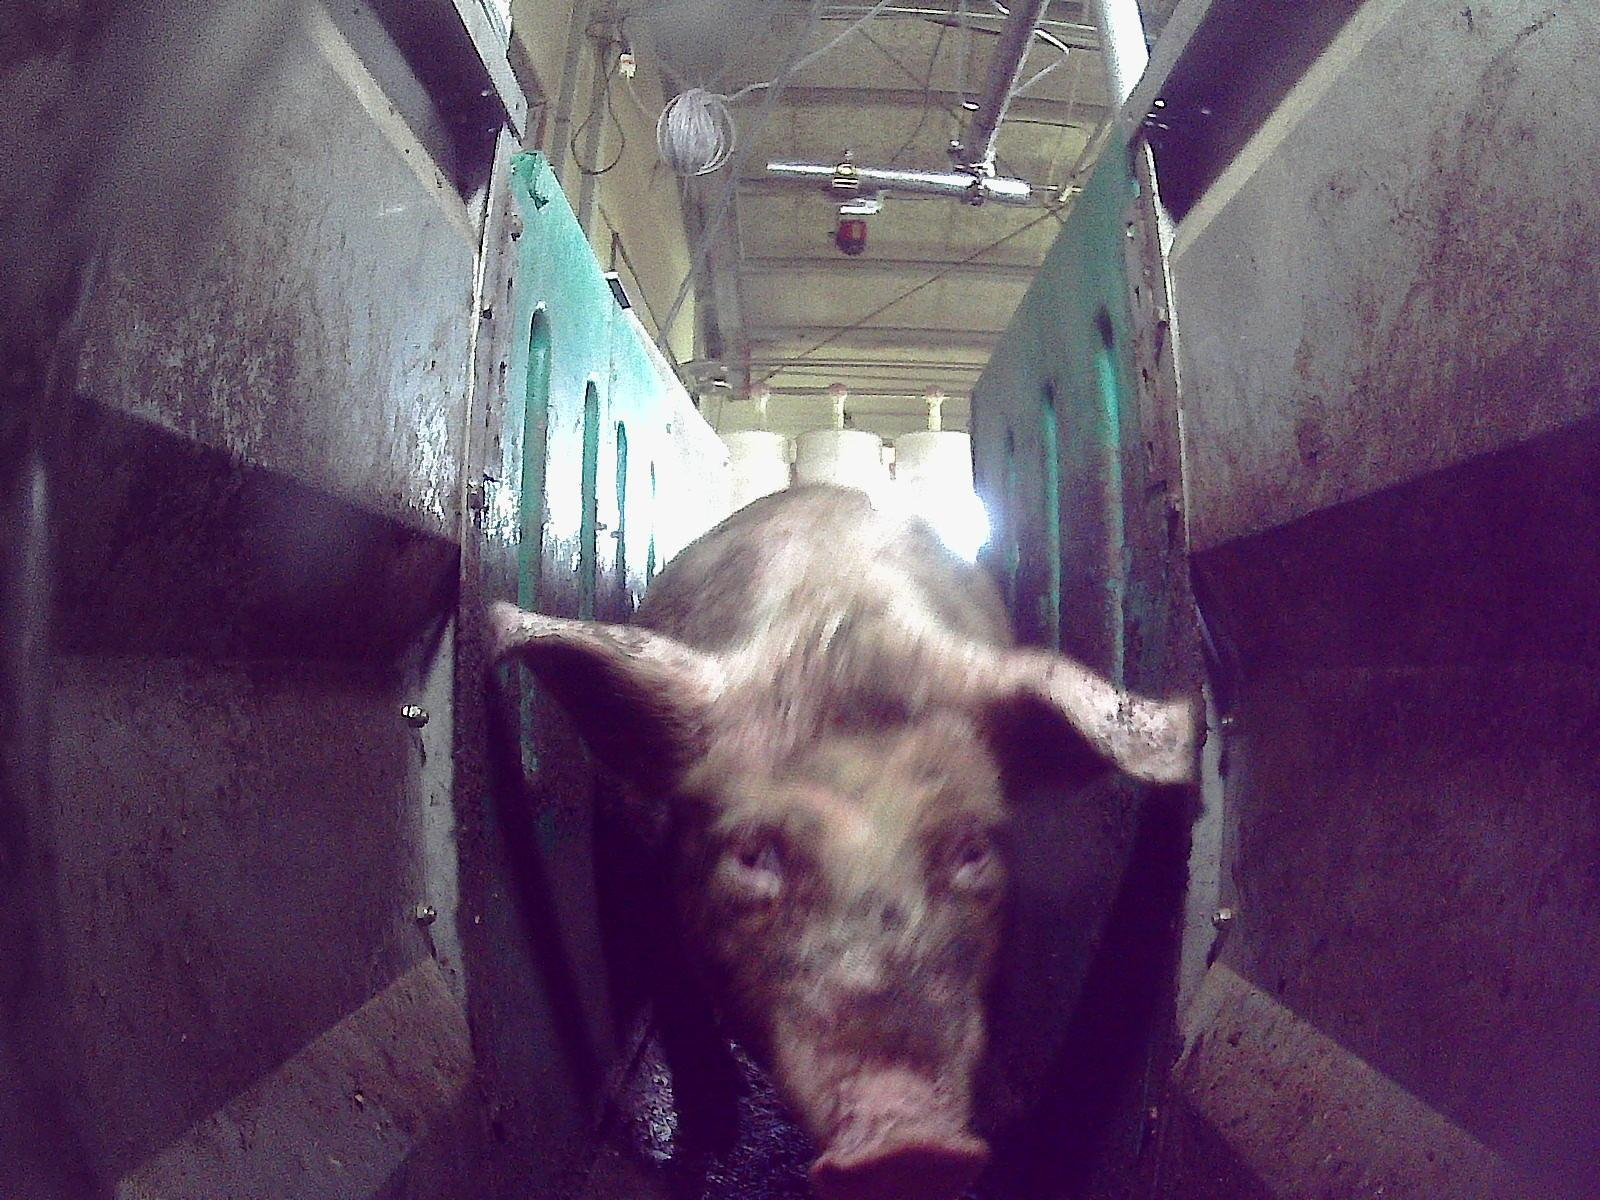Face: (673, 703, 1012, 1199)
